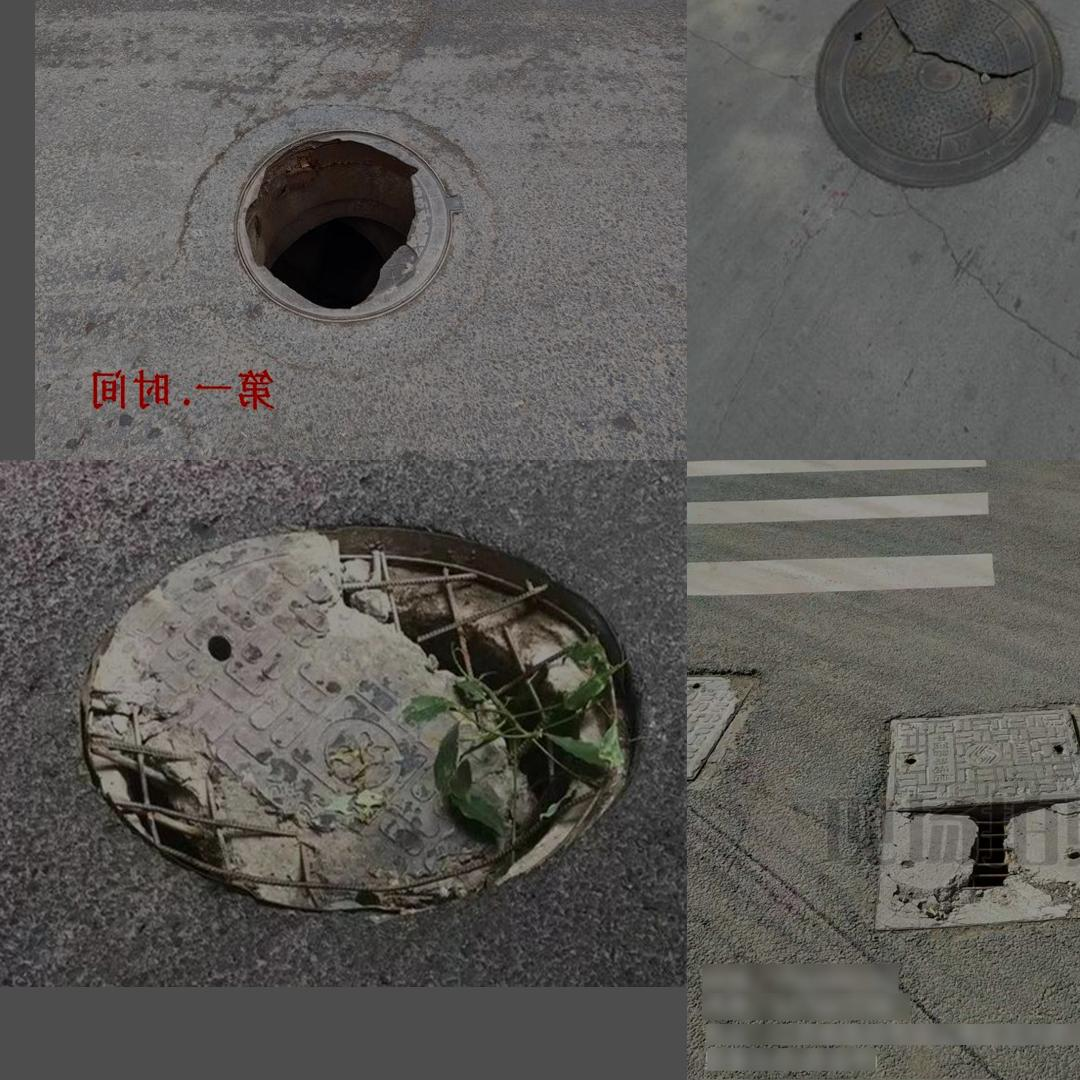broke: (72, 514, 649, 920), (169, 100, 495, 371), (810, 0, 1080, 198), (872, 709, 1080, 932)
